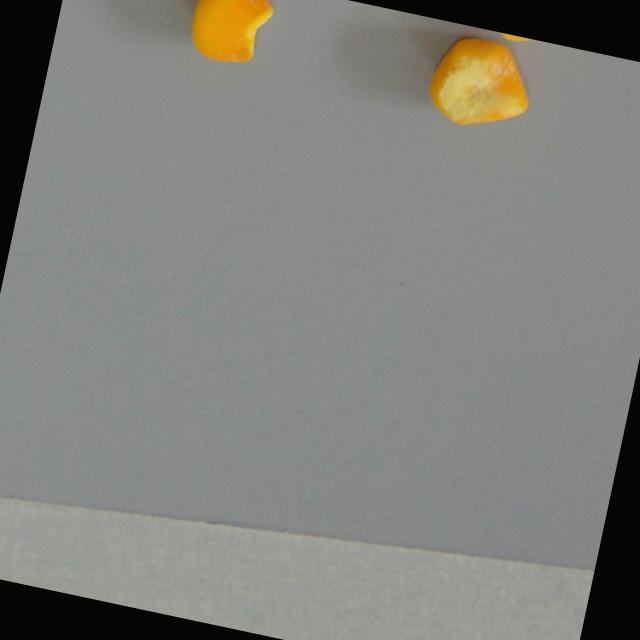pelicula: (421, 29, 538, 135), (182, 0, 274, 70), (466, 24, 563, 55)
